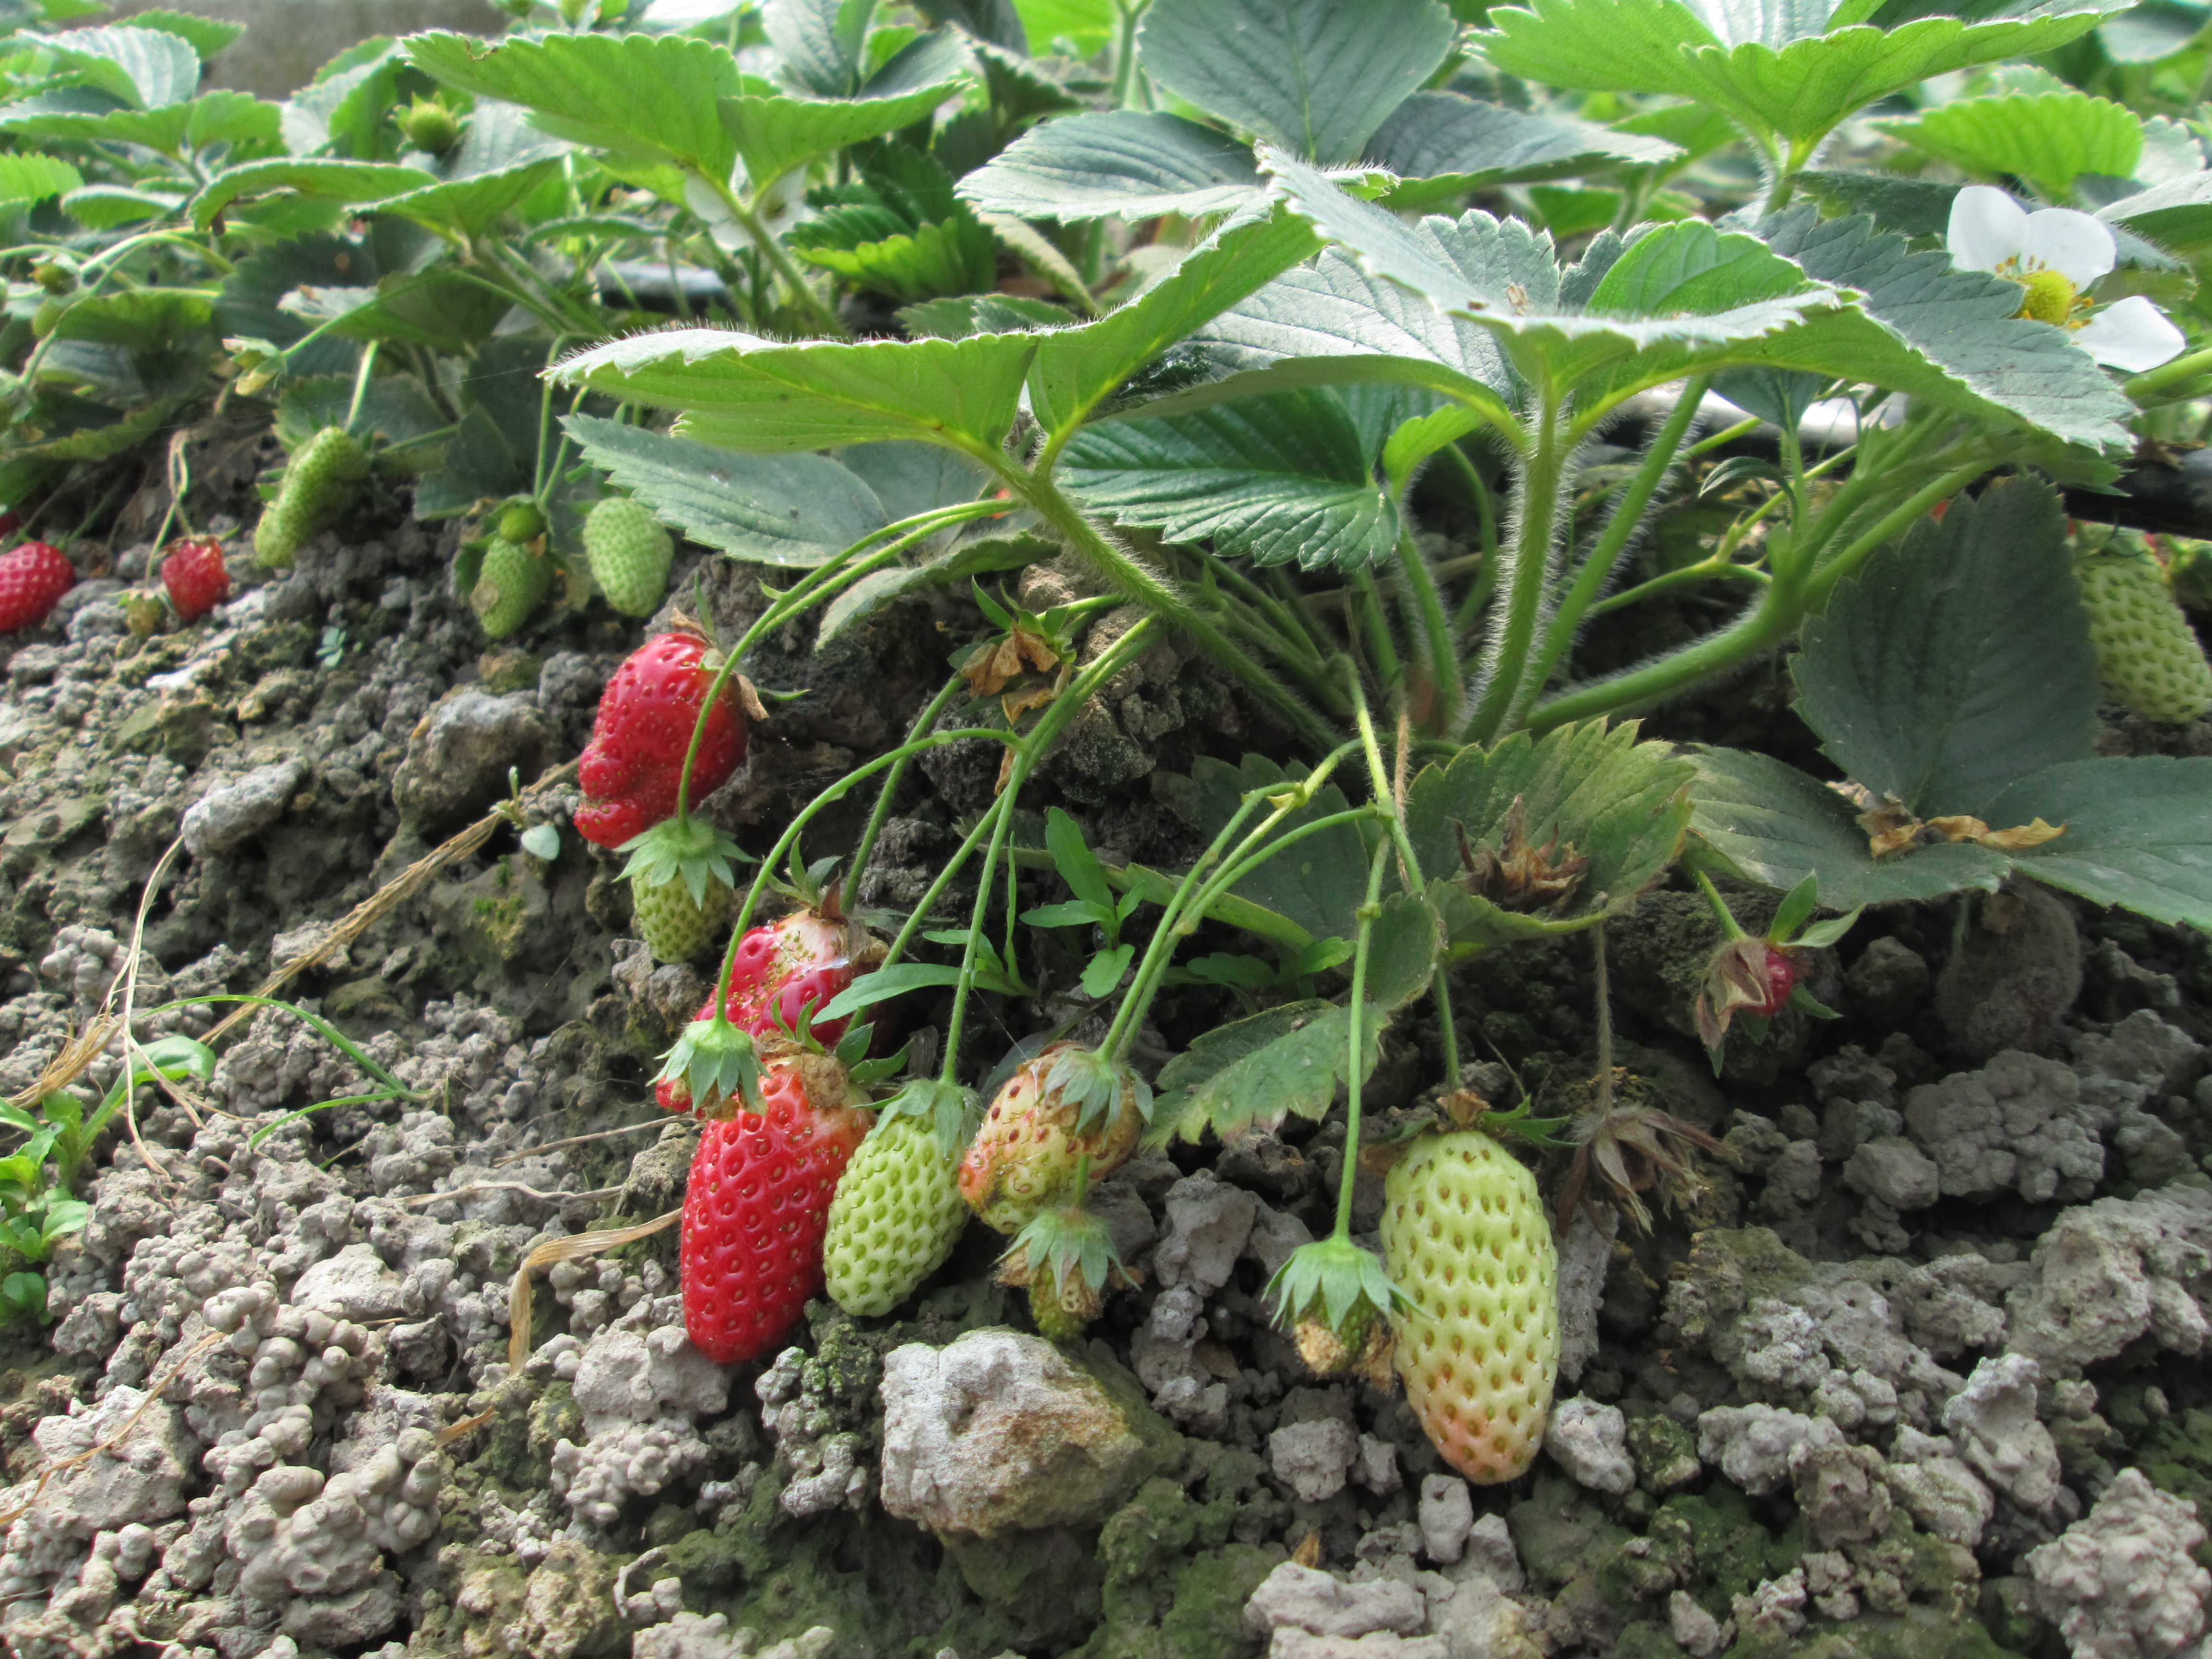StrawberryCylindrical: (669, 1056, 876, 1364)
StrawberryIrremovable: (1379, 1121, 1575, 1488), (824, 1066, 977, 1316), (963, 1037, 1150, 1239), (2067, 505, 2209, 737), (254, 425, 374, 573), (1275, 1248, 1390, 1371), (580, 488, 674, 617), (629, 833, 728, 955), (1024, 1218, 1113, 1347), (470, 519, 559, 647), (394, 92, 470, 169), (2008, 258, 2087, 331), (489, 495, 552, 547)
StrawberryOther: (653, 906, 869, 1108), (573, 615, 747, 856), (0, 525, 82, 640), (146, 525, 235, 622)
StrawberryRemovable: (672, 1060, 871, 1359), (655, 906, 869, 1107), (577, 617, 749, 856), (0, 525, 80, 640), (152, 528, 233, 620)
